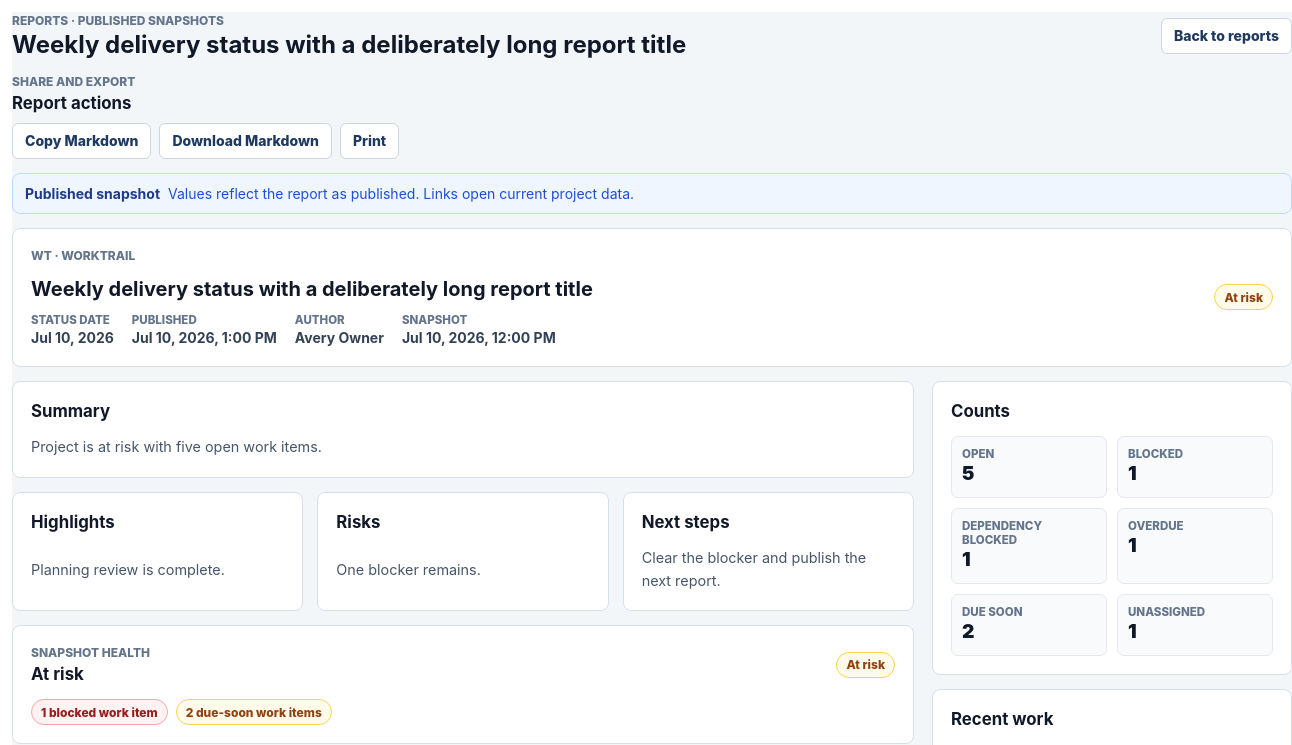
Test: ProjectStatusReportDetailPageComponent › shows copy failures when the clipboard write fails
Click the button "Copy Markdown": (82, 141) x1=12 y1=123 x2=151 y2=159
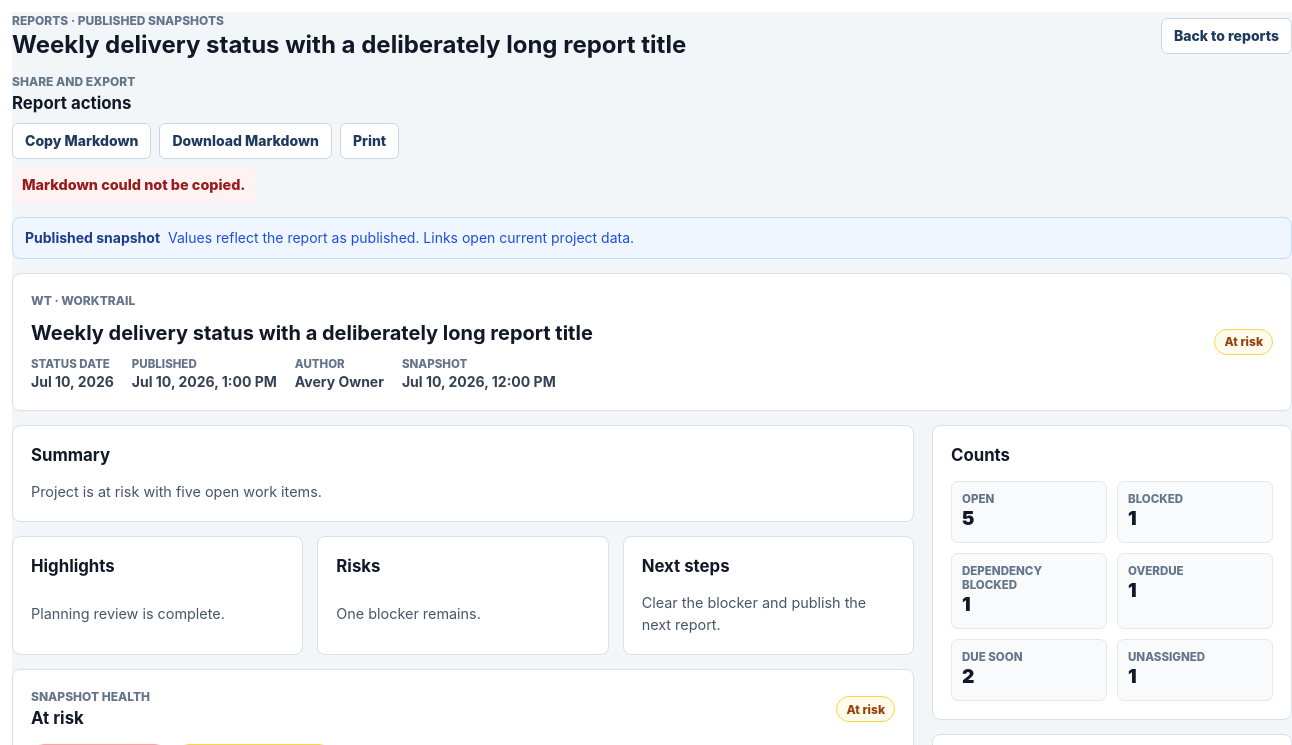
Expected: the text "Markdown could not be copied." is shown, x1=12 y1=167 x2=256 y2=203
